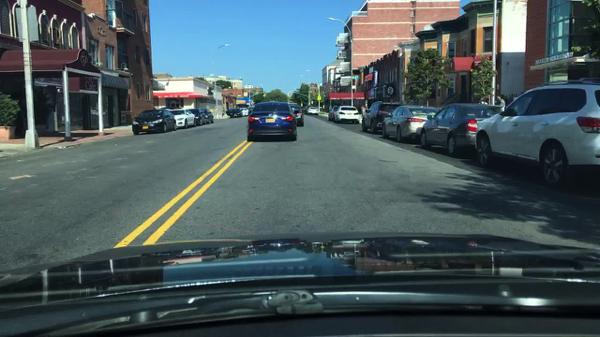car: (473, 77, 599, 189), (419, 102, 504, 158), (381, 104, 440, 144), (246, 100, 298, 143), (360, 101, 407, 135), (131, 108, 177, 136), (169, 108, 198, 129), (335, 106, 360, 125), (289, 104, 305, 127), (187, 108, 203, 126), (201, 108, 215, 124), (328, 106, 341, 122), (198, 108, 211, 124), (228, 106, 242, 118), (307, 106, 318, 116), (158, 107, 183, 111), (239, 108, 250, 117), (301, 105, 310, 114), (246, 106, 255, 114), (288, 102, 300, 106), (300, 107, 304, 113)
person: (360, 103, 366, 118), (221, 106, 226, 118), (318, 106, 323, 112), (328, 105, 332, 112)
traffic light: (287, 92, 293, 97), (263, 93, 267, 97)
traffic sign: (385, 83, 396, 97), (352, 75, 361, 80), (317, 96, 322, 101), (211, 89, 216, 93), (300, 103, 303, 107)
